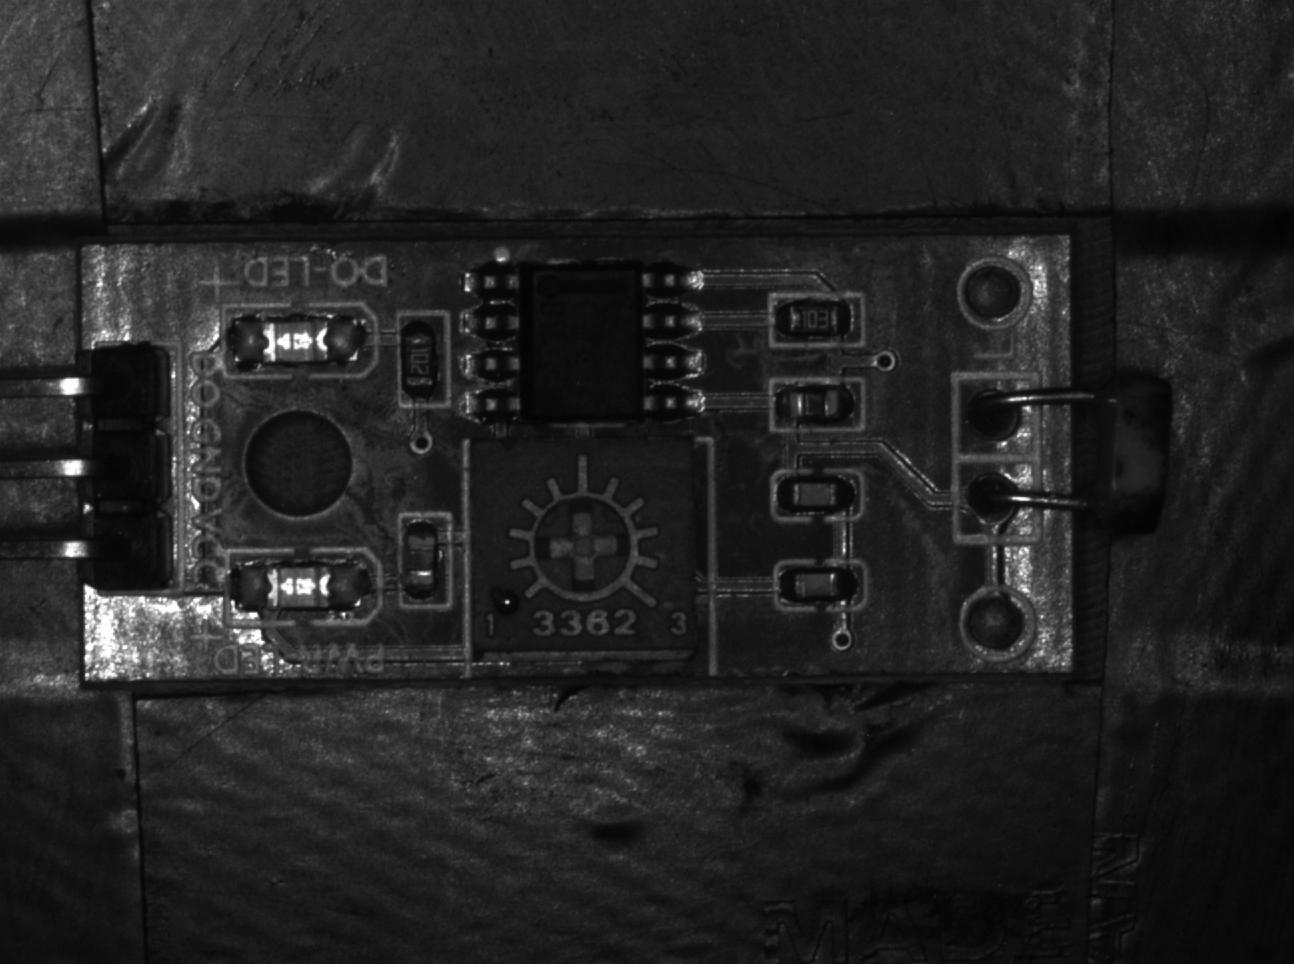miss: (393, 515, 455, 606), (764, 376, 861, 426)
ok: (770, 466, 861, 521), (771, 563, 866, 614), (398, 310, 448, 404), (773, 296, 865, 343)
